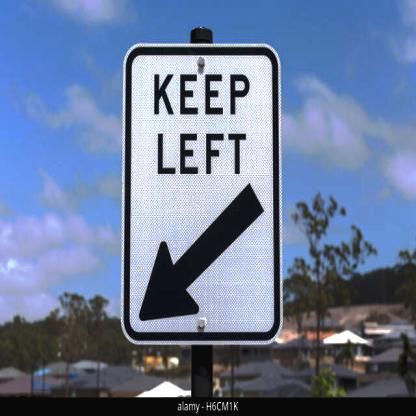Keep left: (123, 41, 283, 345)
